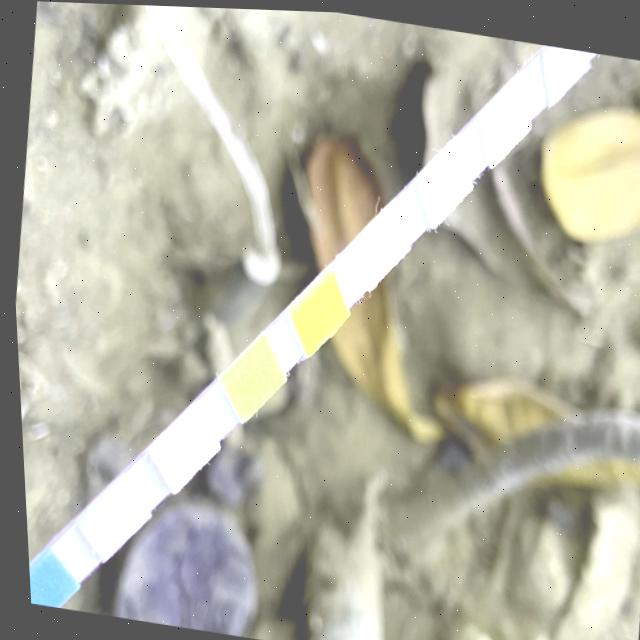Bilirubin: (94, 494, 127, 536)
Blood: (302, 289, 331, 335)
Glucose: (23, 568, 53, 607)
Ketone: (163, 429, 197, 469)
Nitrite: (554, 44, 580, 74)
Protein: (432, 158, 459, 203)
SpGravity: (234, 355, 269, 398)
Urobilinogen: (493, 94, 521, 138)
pH: (368, 219, 397, 262)
